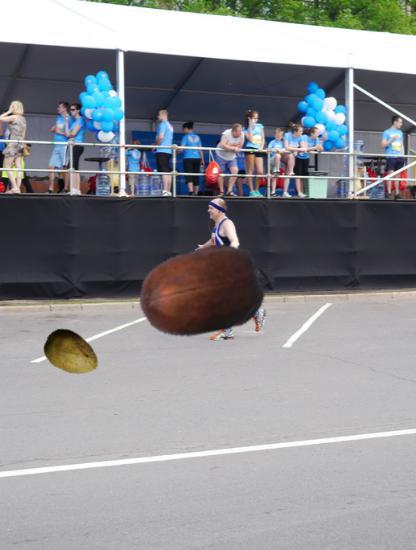Nut: (137, 227, 265, 355)
Papaya: (42, 324, 101, 383)
